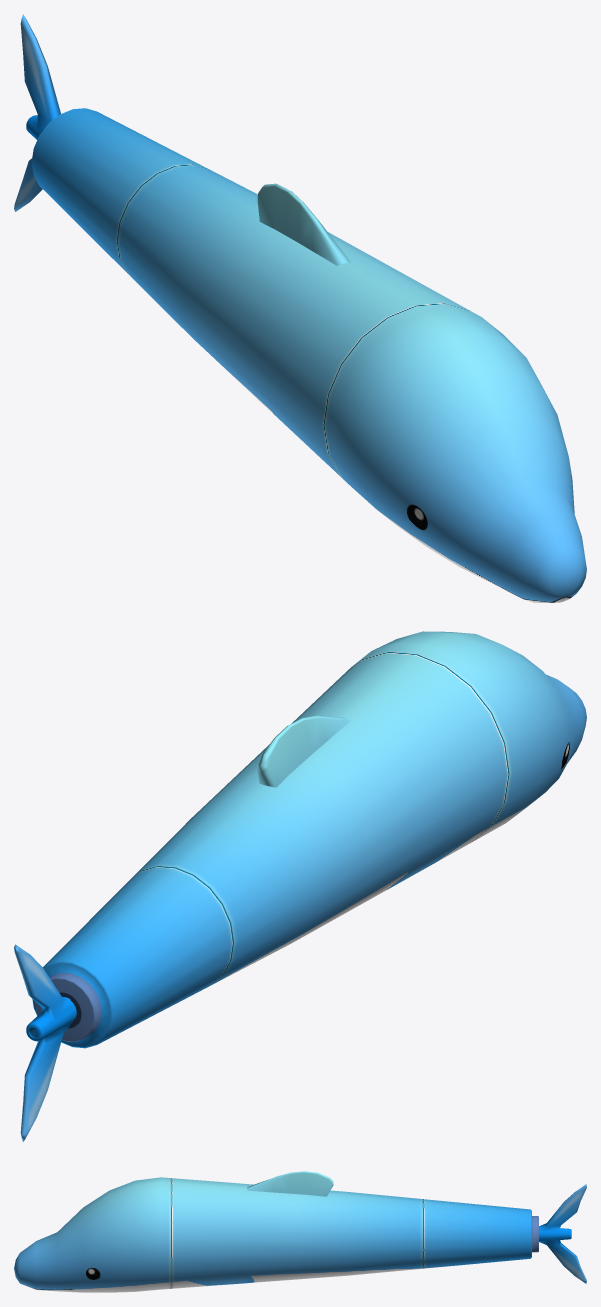
Rendered from iruka_01.fbx.
3 views of the same model, one above another, from view 1: azimuth 30°, elevation 25°; view 2: azimuth 150°, elevation 25°; view 3: azimuth 270°, elevation 25° (orthographic). The views are drawn at different scales.
Parts seen in each view (by area): view 1: pCylinder1, pPlane3, polySurface5; view 2: pCylinder1, polySurface5, pPlane3; view 3: pCylinder1, polySurface5, pPlane3.
Part boxes in pixels (bbox=[...]): pCylinder1: bbox=[31, 108, 586, 602]; pPlane3: bbox=[257, 183, 350, 265]; polySurface5: bbox=[14, 14, 60, 211]; pCylinder1: bbox=[32, 631, 586, 1048]; polySurface5: bbox=[14, 944, 76, 1141]; pPlane3: bbox=[257, 715, 350, 787]; pCylinder1: bbox=[14, 1177, 538, 1292]; polySurface5: bbox=[539, 1184, 586, 1283]; pPlane3: bbox=[247, 1171, 333, 1196].
Size of the model in its own units: 3.75 by 4.31 by 18.98.
Materials: 1 (1 with a texture image).
